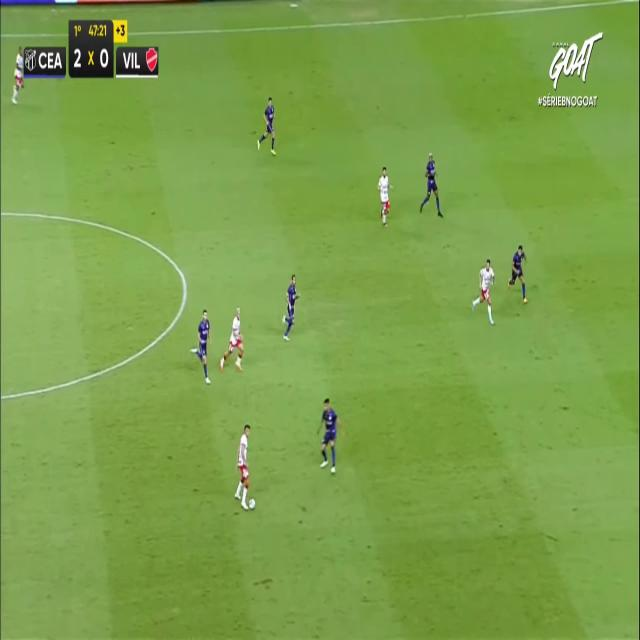ball: (248, 498, 257, 518)
player: (316, 397, 342, 473), (189, 308, 211, 384), (471, 258, 495, 324), (220, 306, 244, 372), (419, 152, 443, 217), (234, 424, 252, 510), (282, 274, 300, 341), (256, 96, 276, 155), (508, 244, 528, 303), (377, 165, 393, 227), (11, 45, 25, 104)
